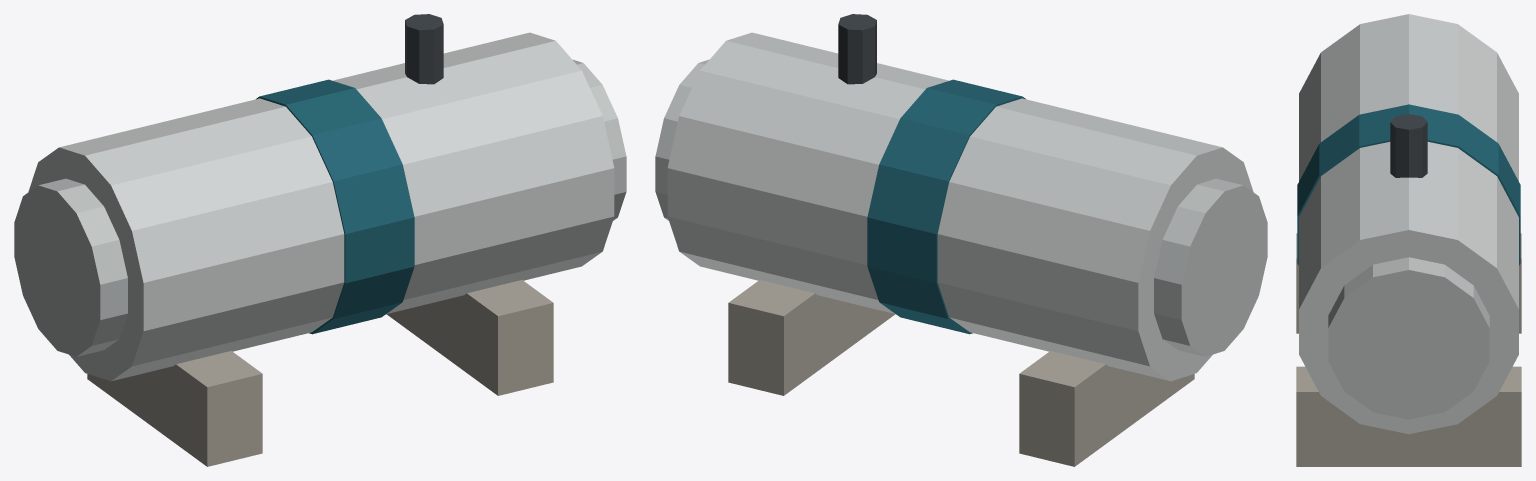
The model's file is w-tank-lying.glb.
3 renders of one model, left to right at view 1: azimuth 30°, elevation 25°; view 2: azimuth 150°, elevation 25°; view 3: azimuth 270°, elevation 25°, orthographic. The views are drawn at different scales.
Parts seen in each view (by area): view 1: w-tank-lying; view 2: w-tank-lying; view 3: w-tank-lying.
Boxes of the visible parts, box(x1,y1,x2,y2) form: w-tank-lying: box(14, 14, 626, 466); w-tank-lying: box(655, 14, 1267, 466); w-tank-lying: box(1296, 14, 1521, 466).
Size of the model in its own units: 1.52 by 0.9201 by 0.5999.
